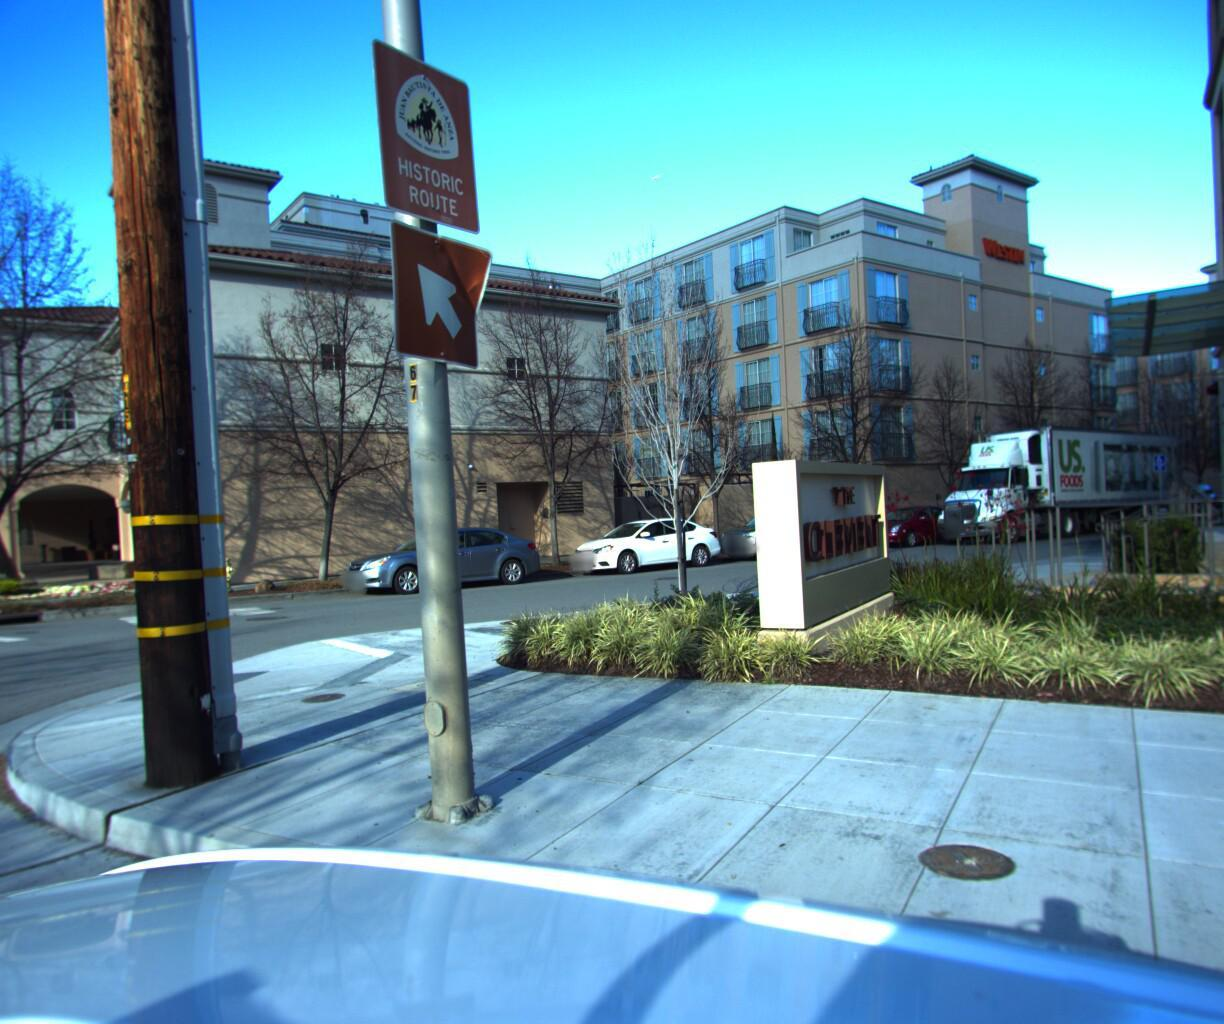car: (329, 515, 546, 596), (553, 506, 727, 575), (705, 494, 851, 558), (850, 496, 965, 543), (1144, 478, 1216, 510)
truck: (911, 414, 1190, 542)
